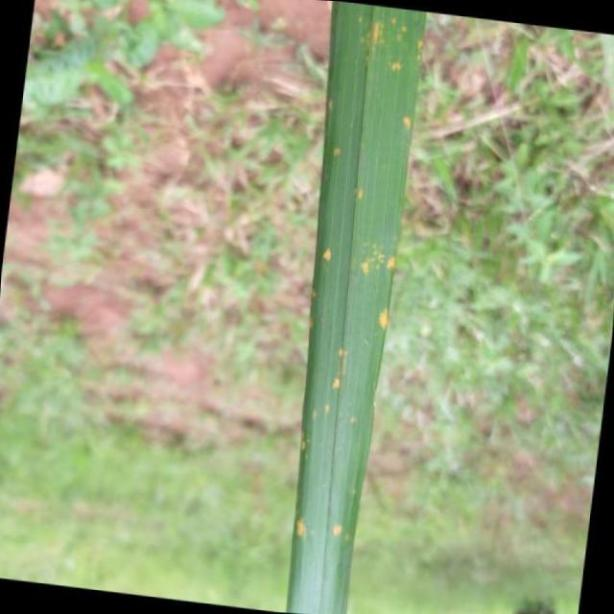Kalium: (286, 0, 426, 614)
